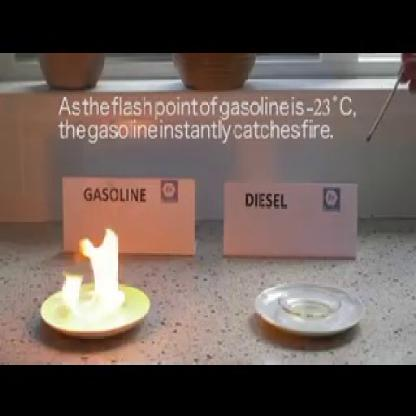fire: (56, 223, 128, 324)
